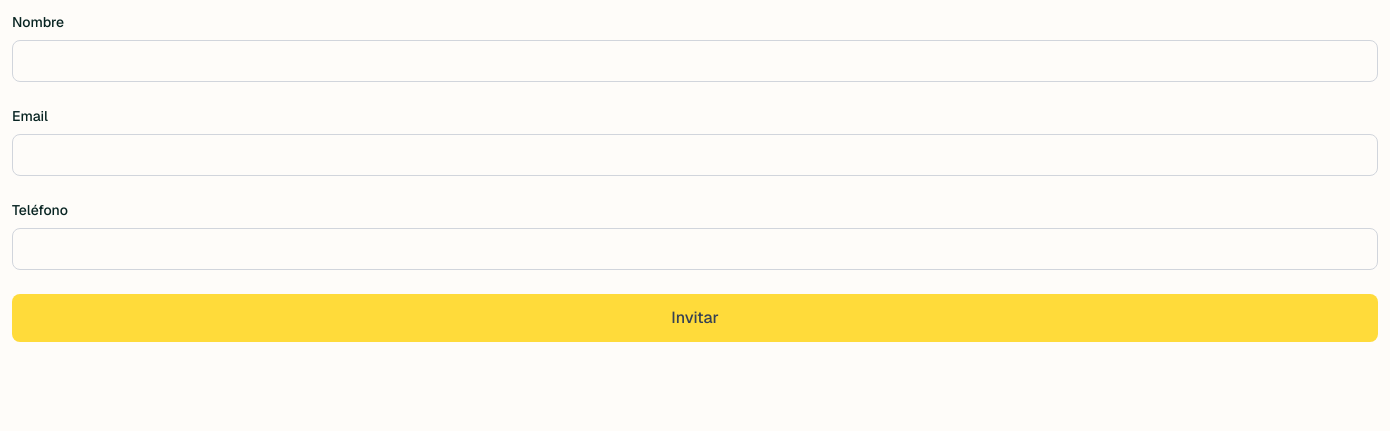
Test: ReferralForm › should show validation error for empty name
Click the button "Invitar": [695, 318] box [12,294,1378,342]
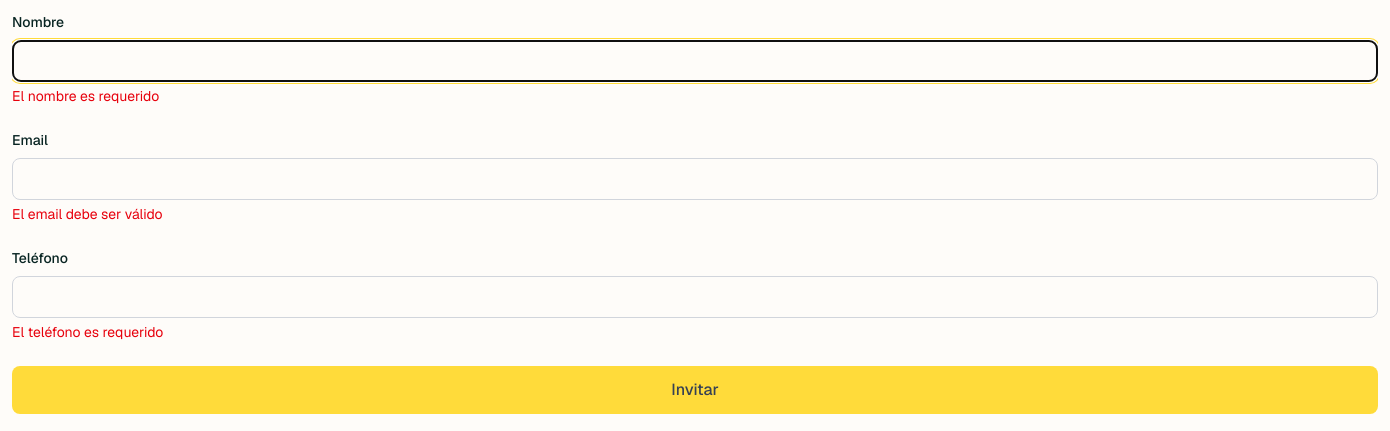
Check: the text "El nombre es requerido" is shown, box [12,87,159,105]
